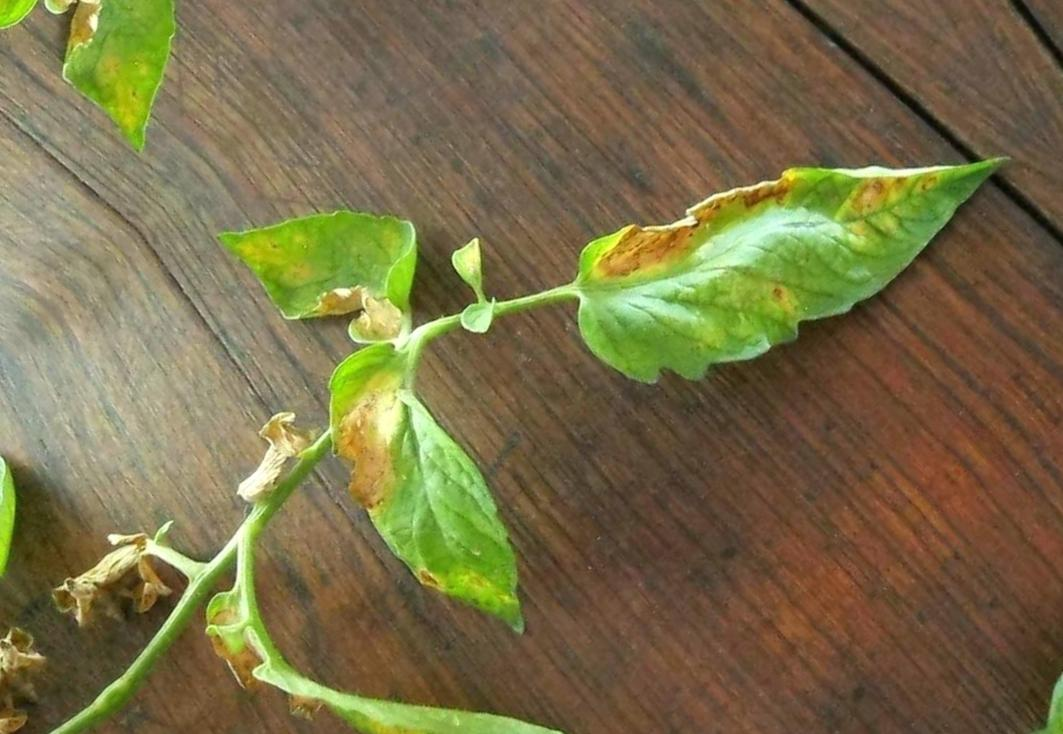Tomato Early blight leaf: (536, 0, 1029, 481), (261, 312, 612, 675)
